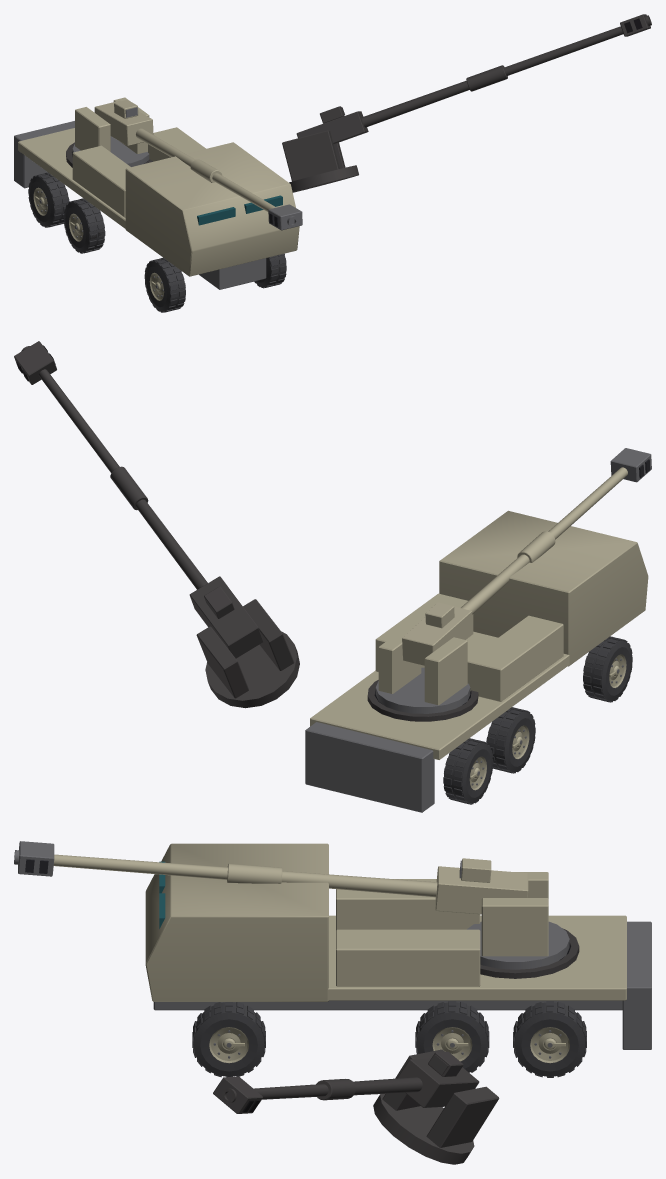
The model's file is wheeledHowitzer__sh_15.glb.
3 renders of one model, top to bottom at view 1: azimuth 30°, elevation 25°; view 2: azimuth 150°, elevation 25°; view 3: azimuth 270°, elevation 25°, orthographic. The views are drawn at different scales.
Visible parts, largest first — view 1: Hull_Mesh, Wreck, Gun_Mesh, Turret_Mesh, Wheel_L1_Mesh, Wheel_L2_Mesh, Wheel_L0_Mesh, Wheel_R2_Mesh; view 2: Hull_Mesh, Wreck, Gun_Mesh, Turret_Mesh, Wheel_L0_Mesh, Wheel_L2_Mesh, Wheel_L1_Mesh; view 3: Hull_Mesh, Wreck, Gun_Mesh, Turret_Mesh, Wheel_R0_Mesh, Wheel_R2_Mesh, Wheel_R1_Mesh.
Boxes of the visible parts, box(x1,y1,x2,y2) form: Hull_Mesh: box(14, 121, 299, 289); Wreck: box(31, 14, 651, 286); Gun_Mesh: box(94, 99, 302, 230); Turret_Mesh: box(72, 97, 149, 166); Wheel_L1_Mesh: box(63, 198, 105, 253); Wheel_L2_Mesh: box(144, 257, 185, 312); Wheel_L0_Mesh: box(28, 172, 69, 227); Wheel_R2_Mesh: box(254, 253, 286, 288); Hull_Mesh: box(305, 510, 648, 812); Wreck: box(14, 341, 621, 771); Gun_Mesh: box(402, 448, 651, 665); Turret_Mesh: box(375, 626, 470, 713); Wheel_L0_Mesh: box(443, 738, 493, 804); Wheel_L2_Mesh: box(583, 636, 632, 702); Wheel_L1_Mesh: box(486, 707, 535, 773); Hull_Mesh: box(145, 843, 651, 1049); Wreck: box(206, 928, 579, 1164); Gun_Mesh: box(14, 841, 528, 914); Turret_Mesh: box(467, 872, 569, 969); Wheel_R0_Mesh: box(513, 1001, 586, 1077); Wheel_R2_Mesh: box(192, 1002, 265, 1077); Wheel_R1_Mesh: box(415, 1001, 489, 1072).
Size of what is drawn, in the model's own units: 11.37 by 3.93 by 9.14.
